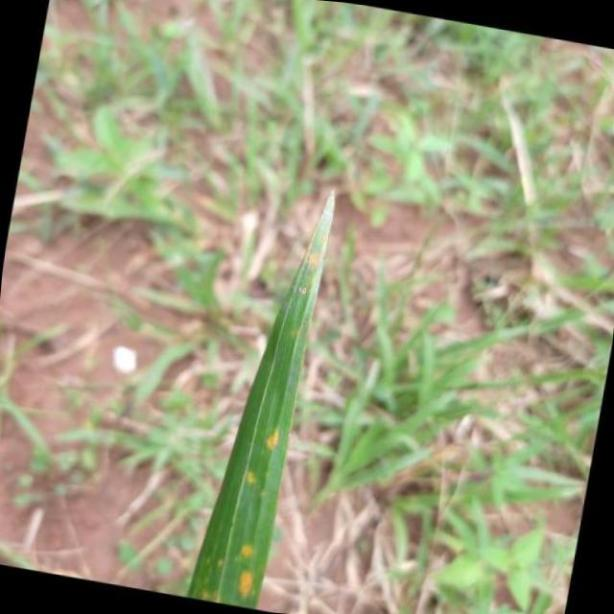Kalium: (179, 160, 339, 598)
